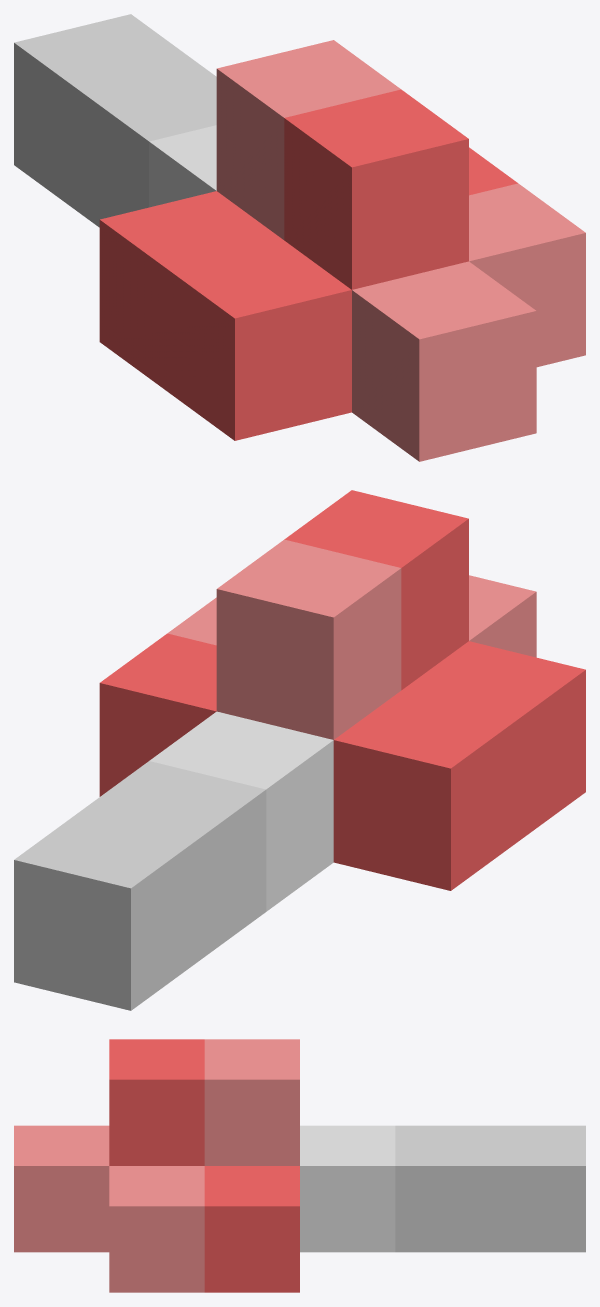
File: meat_chunk.obj
3 renders of one model, top to bottom at view 1: azimuth 30°, elevation 25°; view 2: azimuth 150°, elevation 25°; view 3: azimuth 270°, elevation 25°, orthographic. The views are drawn at different scales.
Parts seen in each view (by area): view 1: meat_chunk; view 2: meat_chunk; view 3: meat_chunk.
Part boxes in pixels (<box>): meat_chunk: <box>14,14,585,461</box>; meat_chunk: <box>14,490,585,1010</box>; meat_chunk: <box>14,1039,585,1292</box>.
Bounding box in the file's own units: 3 × 2 × 6.
1 material, 1 textured.
